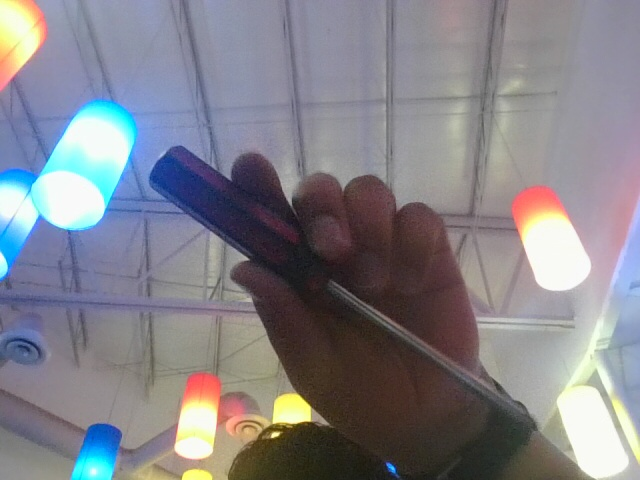destornillador: (139, 145, 549, 447)
